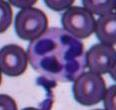N: (29, 27, 86, 82)
